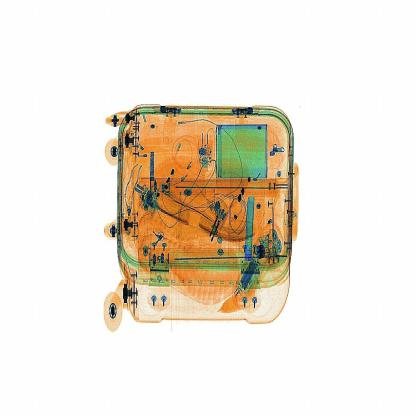pliers: (243, 187, 260, 266)
